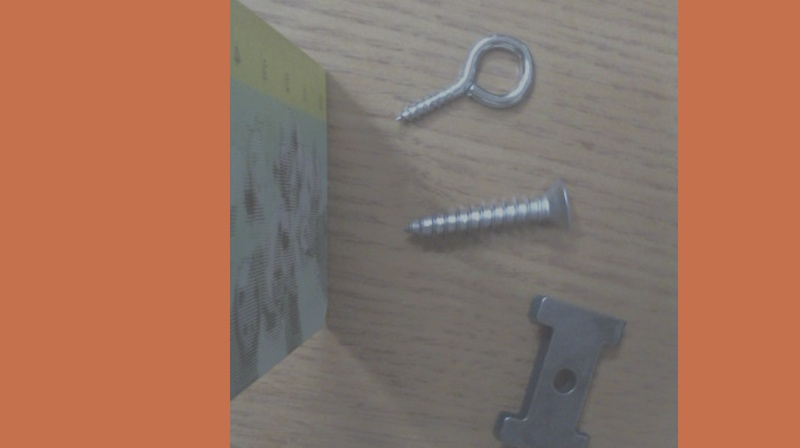O001: (390, 29, 537, 127)
O002: (493, 291, 627, 447)
S001: (401, 176, 571, 240)
